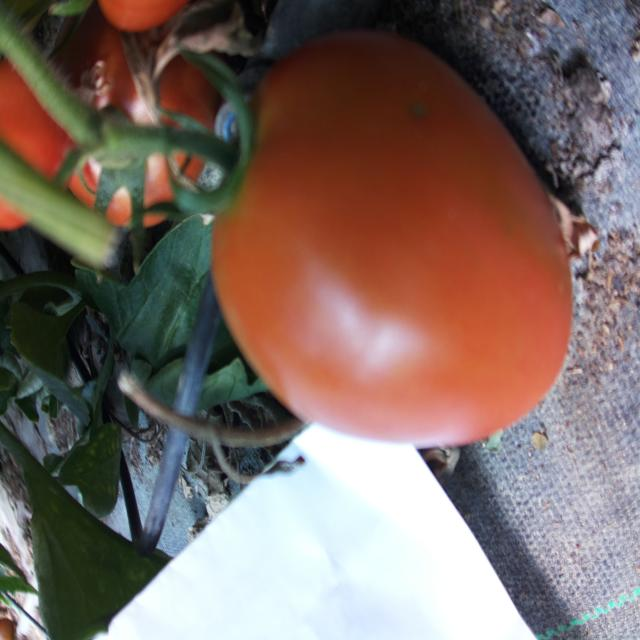kirmizi: (156, 12, 600, 514)
